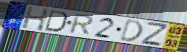2: (92, 17, 117, 40)
D: (118, 18, 145, 43), (44, 9, 69, 33)
H: (21, 6, 50, 32)
R: (67, 13, 95, 36)
Z: (140, 21, 169, 48)
